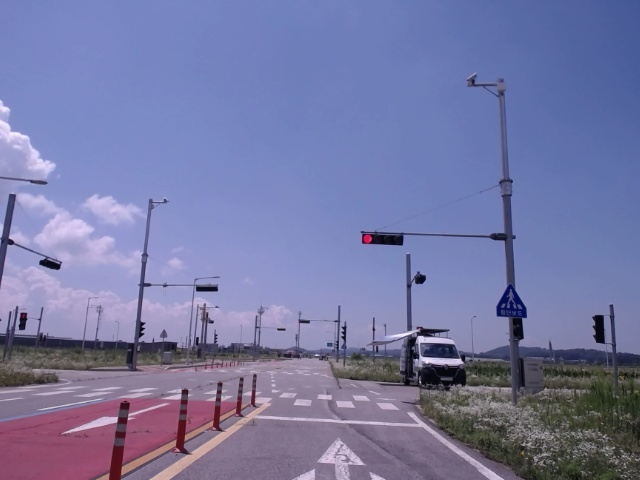red_4: (362, 234, 403, 245)
